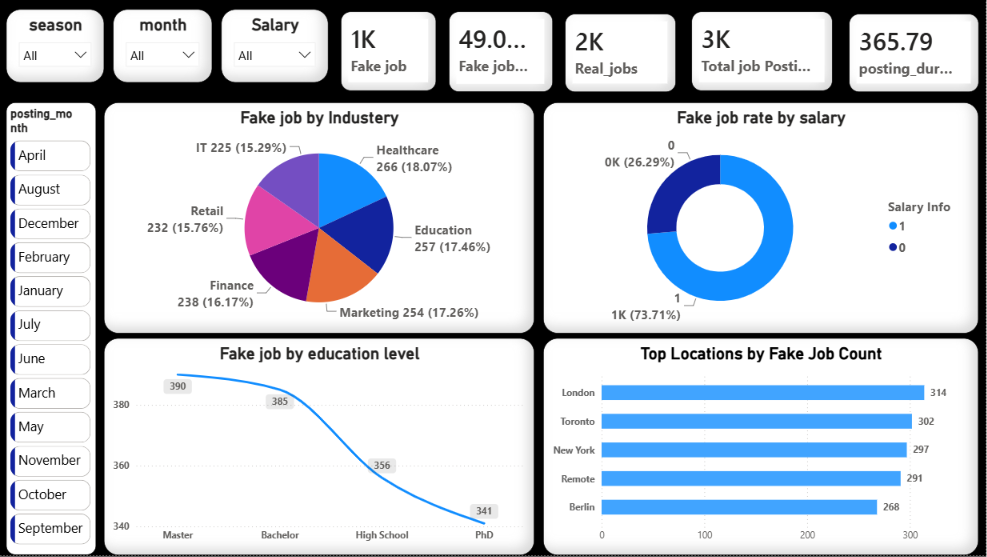

What the dashboard file says about the page in this screenshot:
{"tool":"powerbi","page":{"name":"Page 2","canvas":[1280,720],"ordinal":1},"visuals":[{"type":"advancedSlicerVisual","fields":{"Values":["job_postings.posting_month"]},"box":[9.1,133.2,116.6,587.3],"z":0},{"type":"cardVisual","fields":{"Data":["job_postings.Fake_job"]},"box":[443.5,15.1,124.1,102.9],"z":1000},{"type":"cardVisual","fields":{"Data":["job_postings.Fake_job%"]},"box":[582.8,15.1,134.7,104.5],"z":2000},{"type":"cardVisual","fields":{"Data":["job_postings.Real_job"]},"box":[734.2,18.2,143.8,101.4],"z":3000},{"type":"cardVisual","fields":{"Data":["job_postings.total_job_posting"]},"box":[897.7,15.1,183.2,102.9],"z":4000},{"type":"cardVisual","fields":{"Data":["job_postings.avg_posting_duration"]},"box":[1102,18.2,168,101.4],"z":5000},{"type":"pieChart","title":"Fake job by Industery","fields":{"Category":["job_postings.industry"],"Y":["job_postings.Fake_job"]},"box":[136.2,133.2,558.6,299.7],"z":6000},{"type":"donutChart","title":"Fake job rate by salary","fields":{"Y":["job_postings.Fake_job"],"Category":["job_postings.has_salary"]},"box":[705.4,133.2,564.6,299.7],"z":7000},{"type":"lineChart","title":"Fake job by education level","fields":{"Category":["job_postings.education_level"],"Y":["job_postings.Fake_job"]},"box":[136.2,439,558.6,281.6],"z":8000},{"type":"slicer","title":"month","fields":{"Values":["job_postings.posting_quarter"]},"box":[148.4,12.1,128.7,95.4],"z":9000},{"type":"slicer","title":"season","fields":{"Values":["job_postings.posting_season"]},"box":[9.1,12.1,127.2,95.4],"z":10000},{"type":"clusteredBarChart","title":"Top Locations by Fake Job Count","fields":{"Category":["job_postings.location"],"Y":["job_postings.Fake job"]},"box":[705.4,439,564.6,281.6],"z":11000},{"type":"slicer","title":"Salary","fields":{"Values":["job_postings.salary_range"]},"box":[287.6,12.1,139.3,95.4],"z":12000}]}

Visuals, with their boxes in screenshot pixels (x1, y1, x2, y2), scaled from the page's 1280x720 canvas onto the 987x557 screenshot:
advancedSlicerVisual - job_postings.posting_month: 7:103:97:556
cardVisual - job_postings.Fake_job: 342:12:438:91
cardVisual - job_postings.Fake_job%: 449:12:553:93
cardVisual - job_postings.Real_job: 566:14:677:93
cardVisual - job_postings.total_job_posting: 692:12:833:91
cardVisual - job_postings.avg_posting_duration: 850:14:979:93
"Fake job by Industery" pieChart: 105:103:536:335
"Fake job rate by salary" donutChart: 544:103:979:335
"Fake job by education level" lineChart: 105:340:536:556
"month" slicer: 114:9:214:83
"season" slicer: 7:9:105:83
"Top Locations by Fake Job Count" clusteredBarChart: 544:340:979:556
"Salary" slicer: 222:9:329:83
